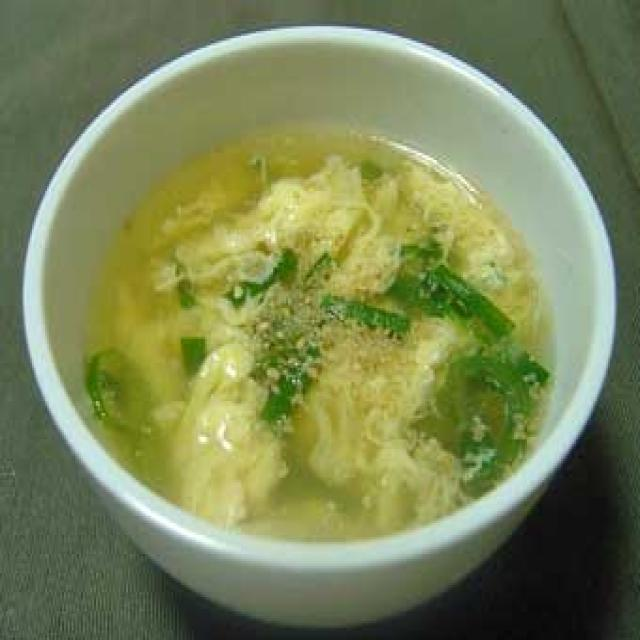汤锅炖物: (21, 19, 616, 623)
